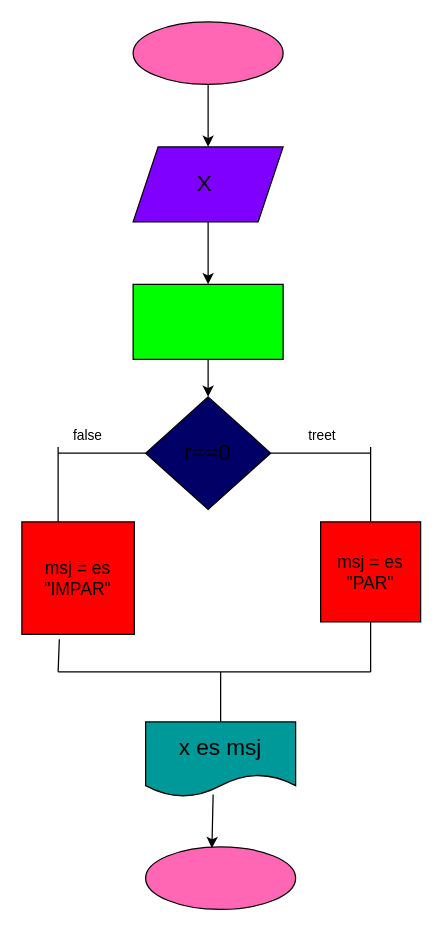
This 443x931 diagram has some shape labels left out. Each missing label, with the centre of its shape:
"FIN" belongs at point (220, 877).
"INICIO" belongs at point (207, 52).
"r= x % 2" belongs at point (207, 321).
